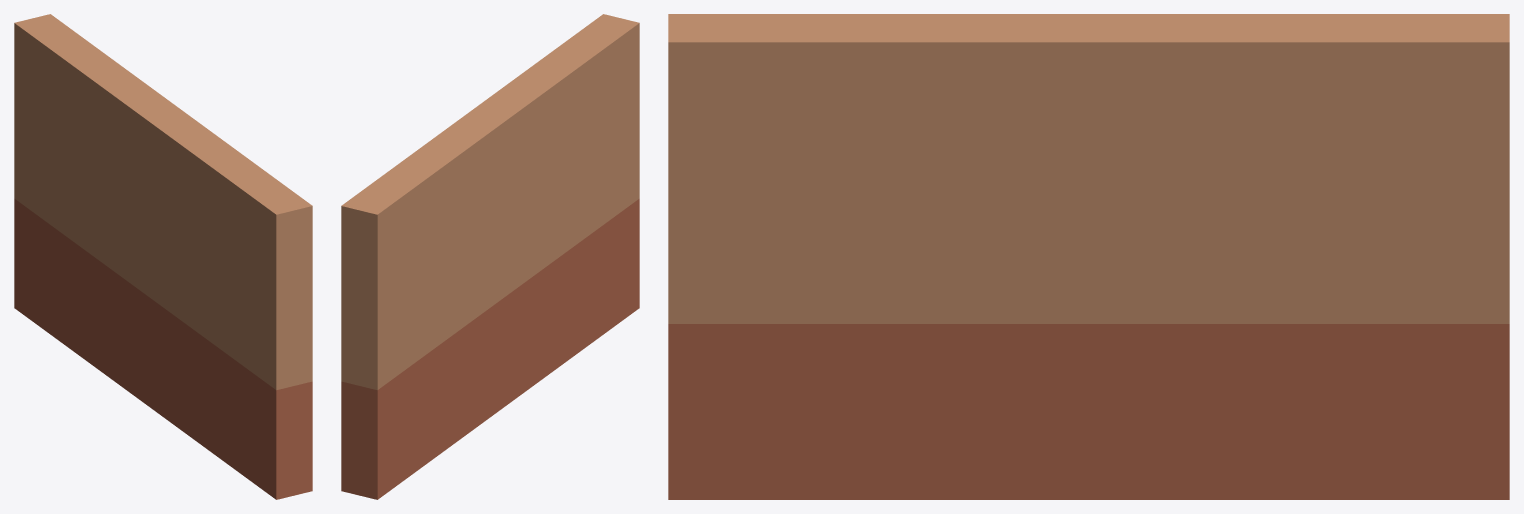
File: Res01_ManagerRoomWall.fbx
The picture shows the model from 3 angles, left to right: view 1: azimuth 30°, elevation 25°; view 2: azimuth 150°, elevation 25°; view 3: azimuth 270°, elevation 25°; orthographic projection. The views are drawn at different scales.
Visible parts, largest first — view 1: Res01_ManagerRoomWall; view 2: Res01_ManagerRoomWall; view 3: Res01_ManagerRoomWall.
Part boxes in pixels (x1,y1,x2,y2): Res01_ManagerRoomWall: (14, 14, 312, 499); Res01_ManagerRoomWall: (341, 14, 639, 499); Res01_ManagerRoomWall: (668, 14, 1509, 499).
Size of the model in its own units: 40 by 300 by 500.
